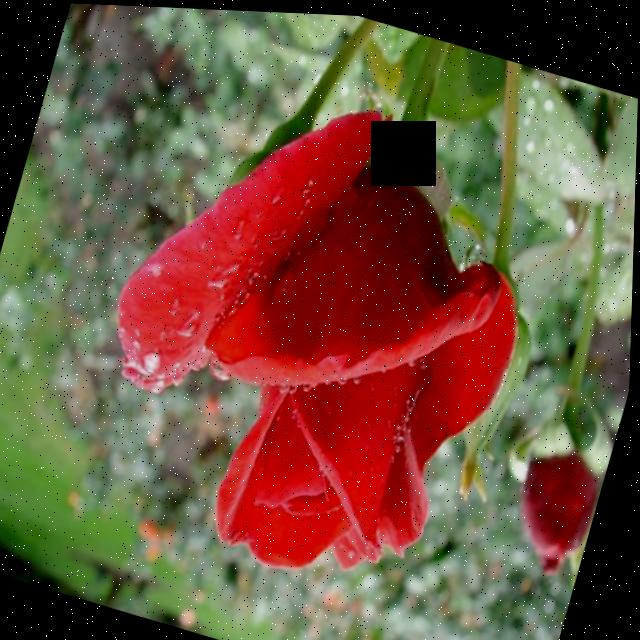rose: (60, 50, 576, 621)
